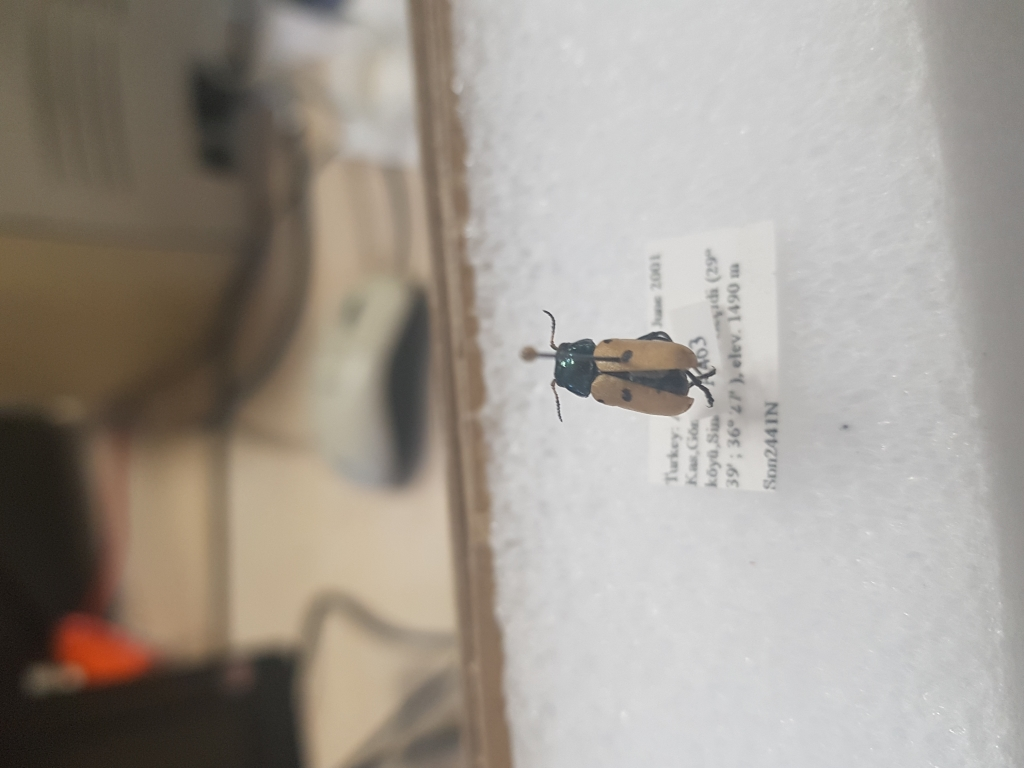Labidostomis_maculipennis: (541, 305, 719, 423)
